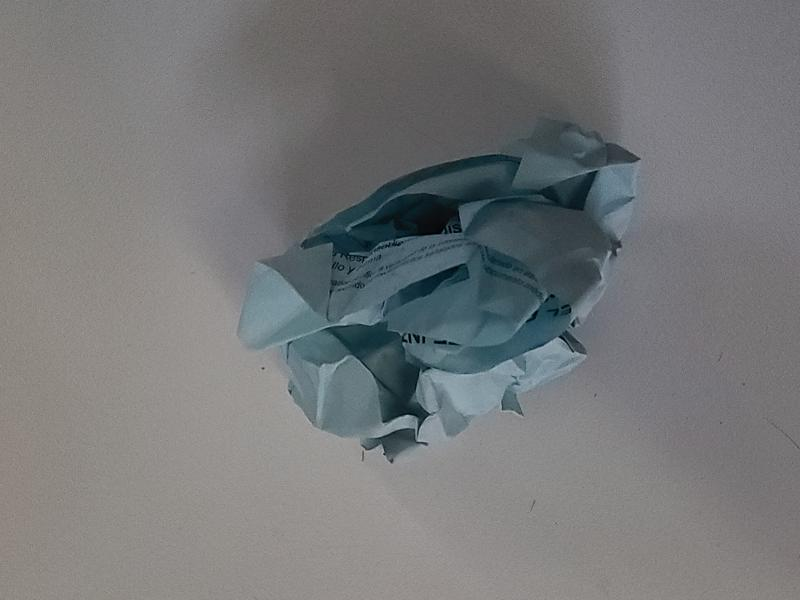papel: (236, 118, 642, 466)
